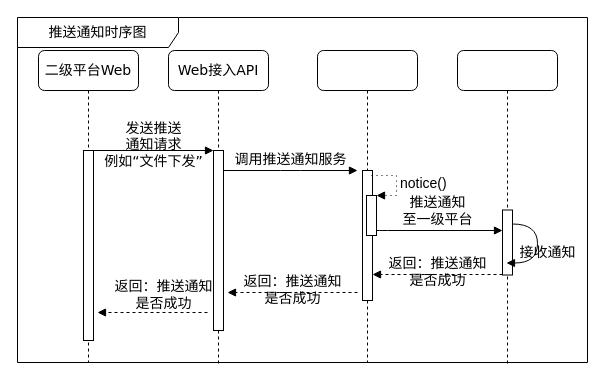
Image size: 605x381. Some labels were removed from this diagram. Here are the shapes that lost their labels. From the top down, the centre of each, then its label:
[367,206]: Access
[507,207]: 一级平台服务
